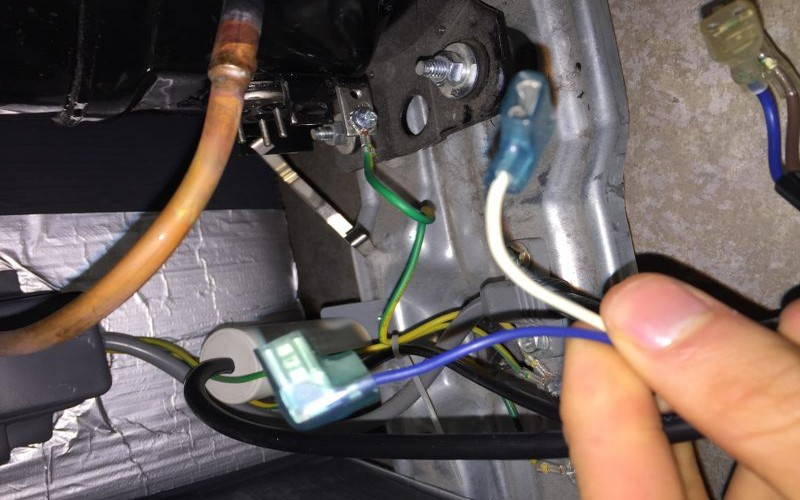Capacitor: (175, 319, 434, 431), (465, 52, 581, 229)
